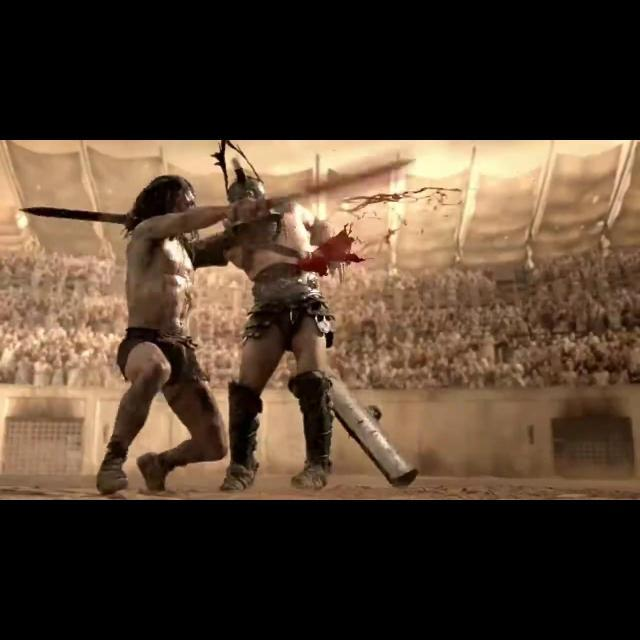blood: (298, 224, 365, 275), (343, 186, 463, 213), (384, 227, 400, 244), (404, 220, 407, 224)
